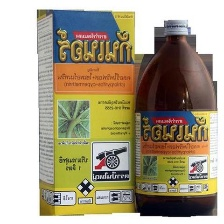carton: (32, 5, 137, 216)
insecticide: (131, 15, 222, 219)
